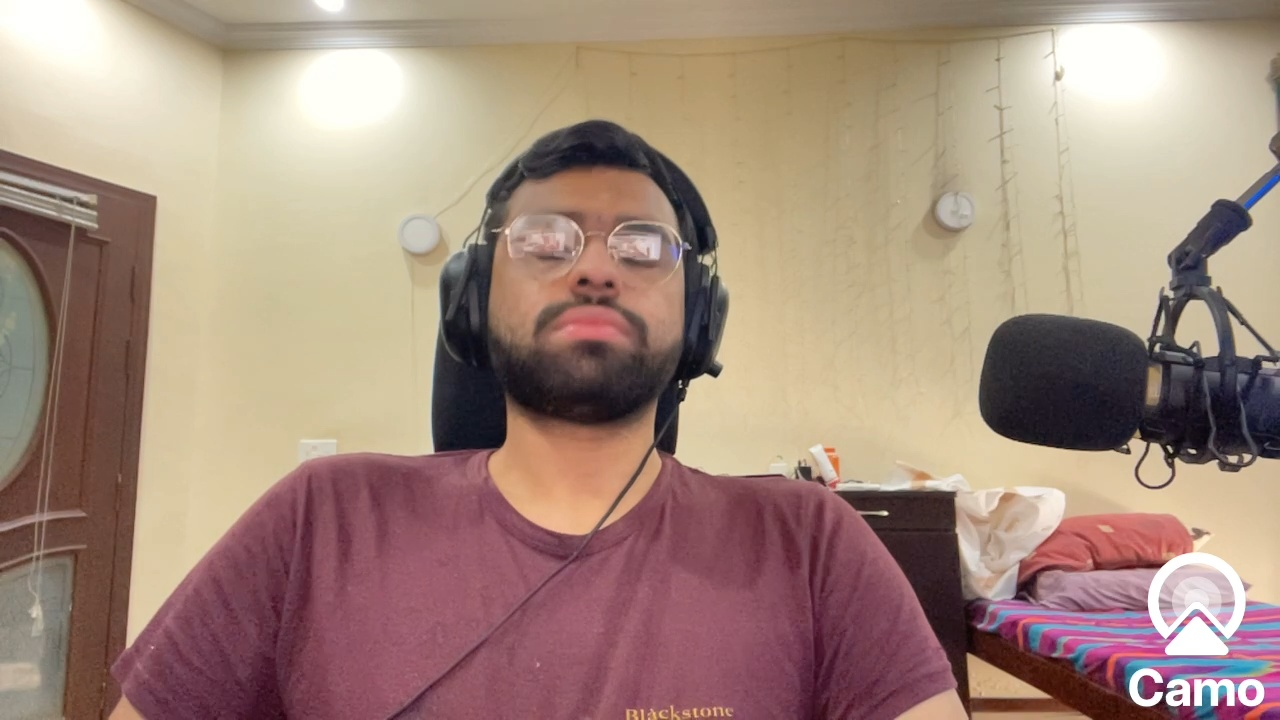neutral: (486, 150, 683, 419)
